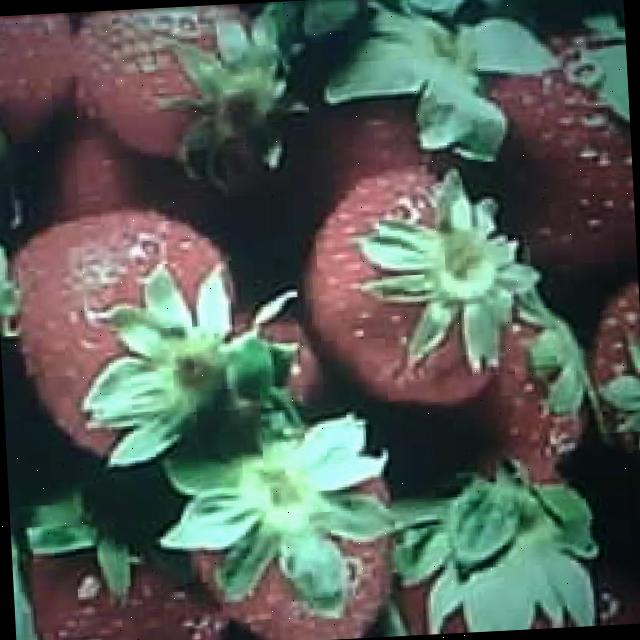strawberry: (11, 208, 238, 464), (304, 166, 502, 413), (77, 6, 266, 164)
